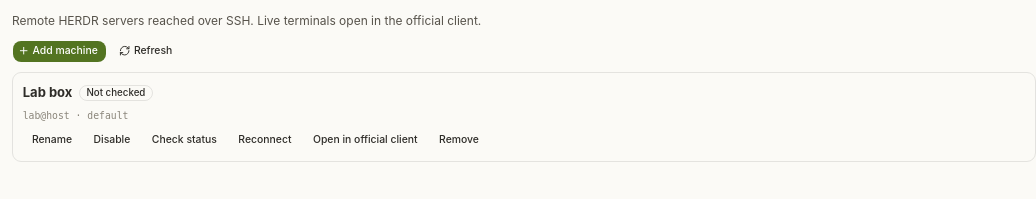
Test: MachinesPanel actions › keeps the reason of a structured status error visible
This screenshot has width=1036, height=199.
Check: the text "Lab box" is shown, box x1=23 y1=83 x2=72 y2=102
Click the button "Check status": (184, 140) x1=143 y1=128 x2=226 y2=151
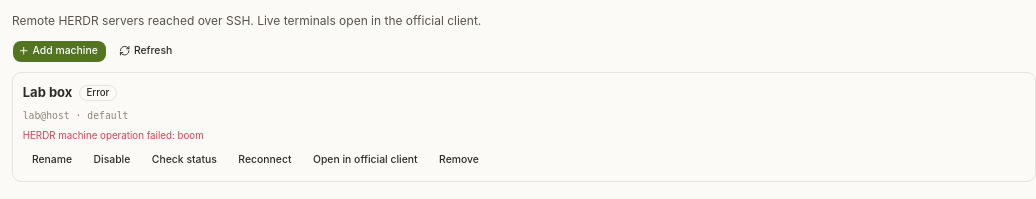
Check: the text "HERDR machine operation failed: boom" is shown, box x1=23 y1=130 x2=204 y2=140
